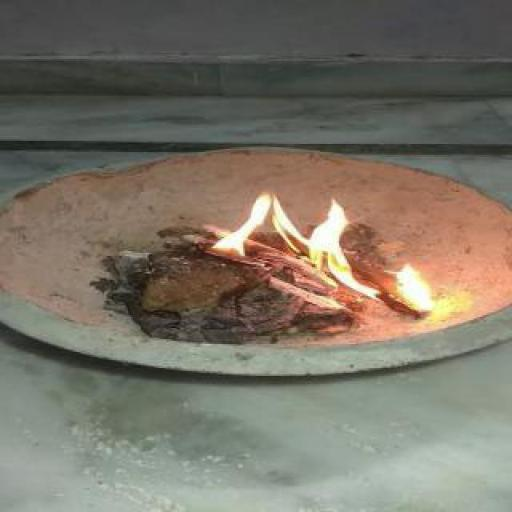smoke: (194, 192, 464, 322)
